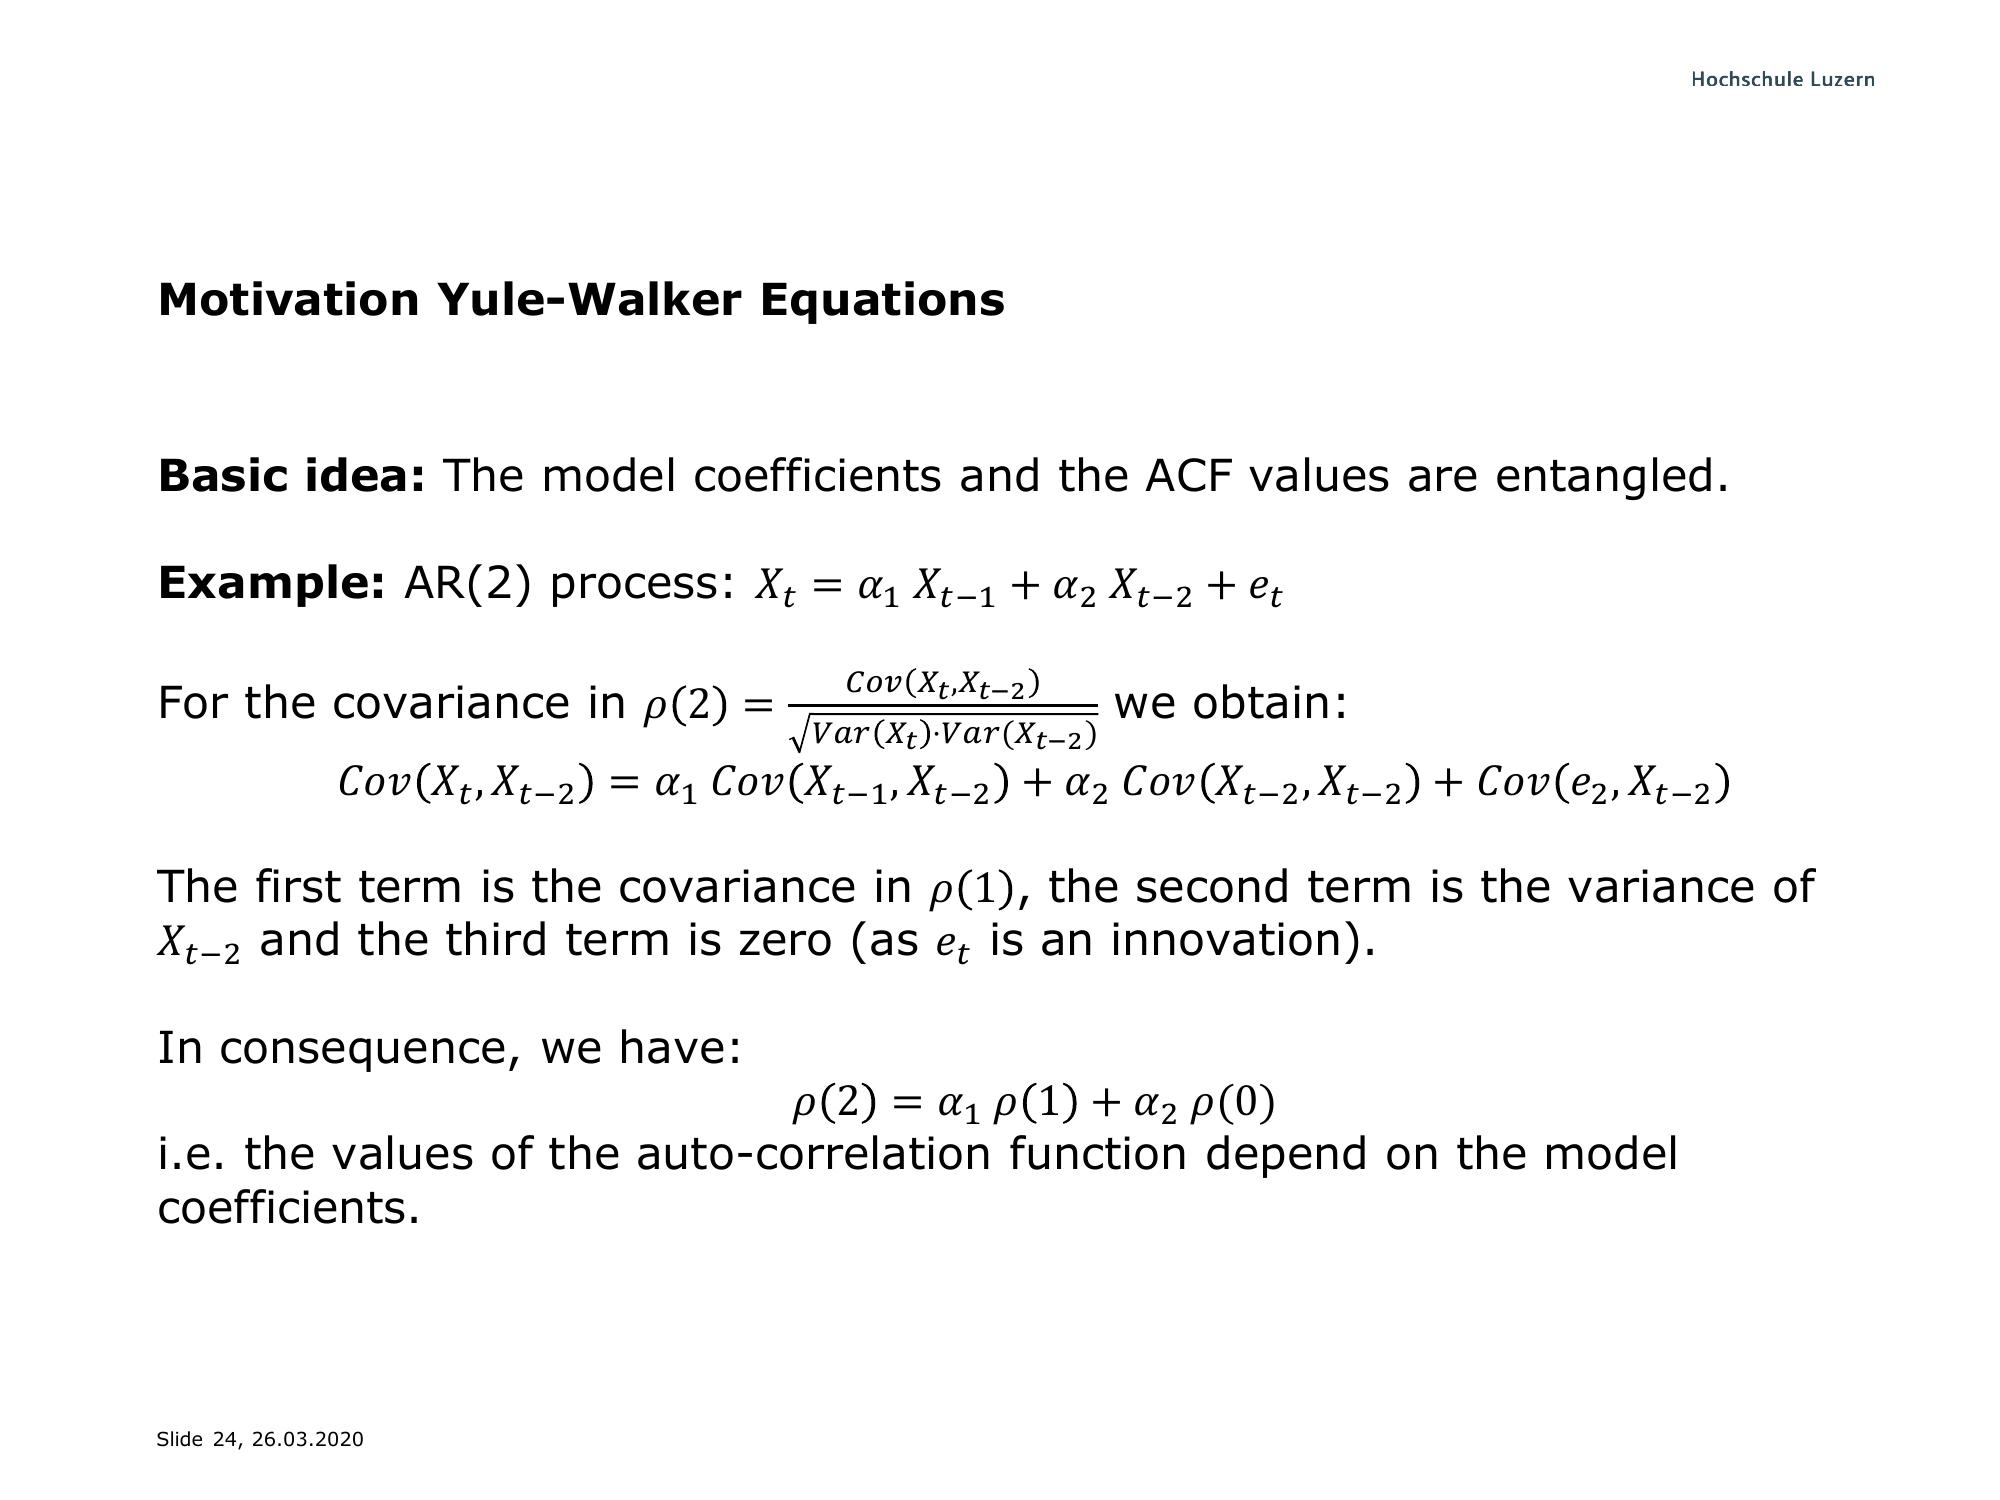Title: (106, 262, 1024, 339)
